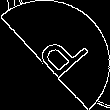P_SW: (23, 24, 87, 86)
